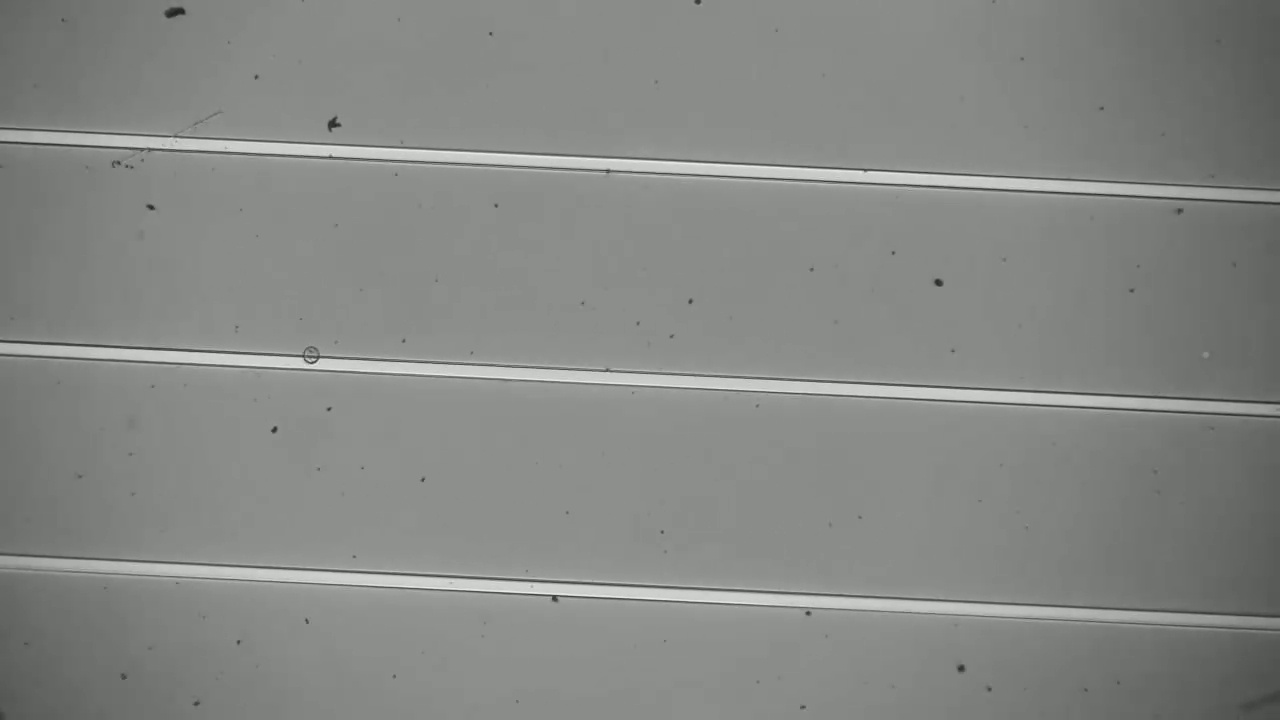stains_enbedded: (297, 345, 324, 377)
